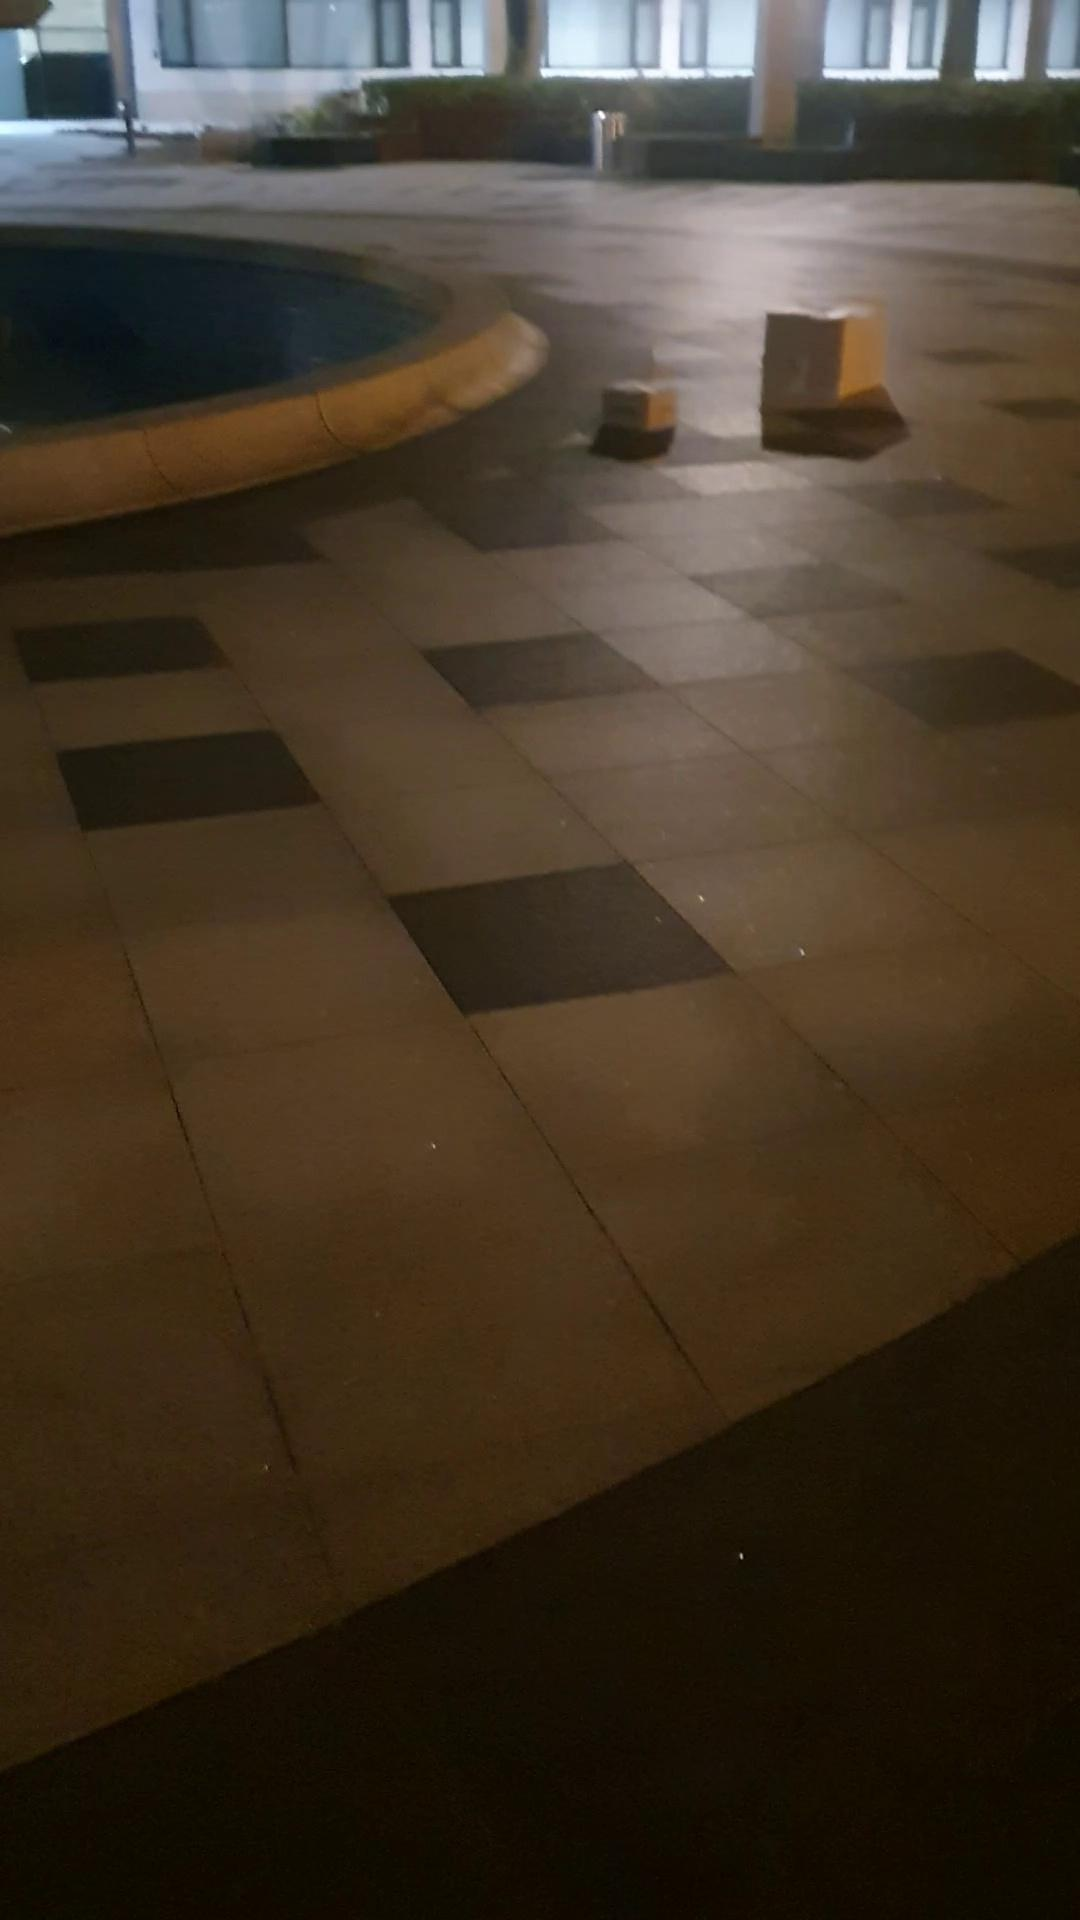Box: (756, 293, 887, 418), (593, 368, 676, 443)
